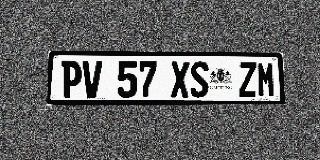5: (118, 61, 137, 98)
7: (138, 61, 157, 98)
M: (257, 62, 276, 97)
P: (61, 61, 82, 98)
S: (190, 62, 209, 97)
V: (82, 61, 102, 98)
X: (171, 61, 190, 97)
Z: (238, 62, 257, 97)
